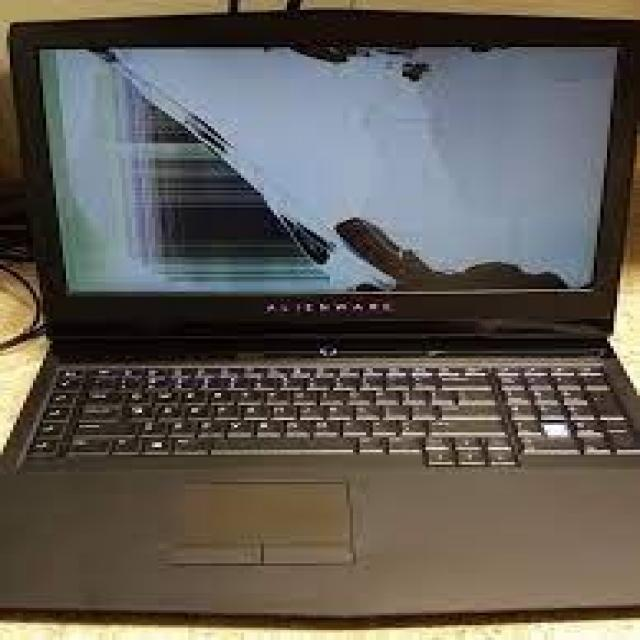Screen cracks: (30, 42, 620, 314)
